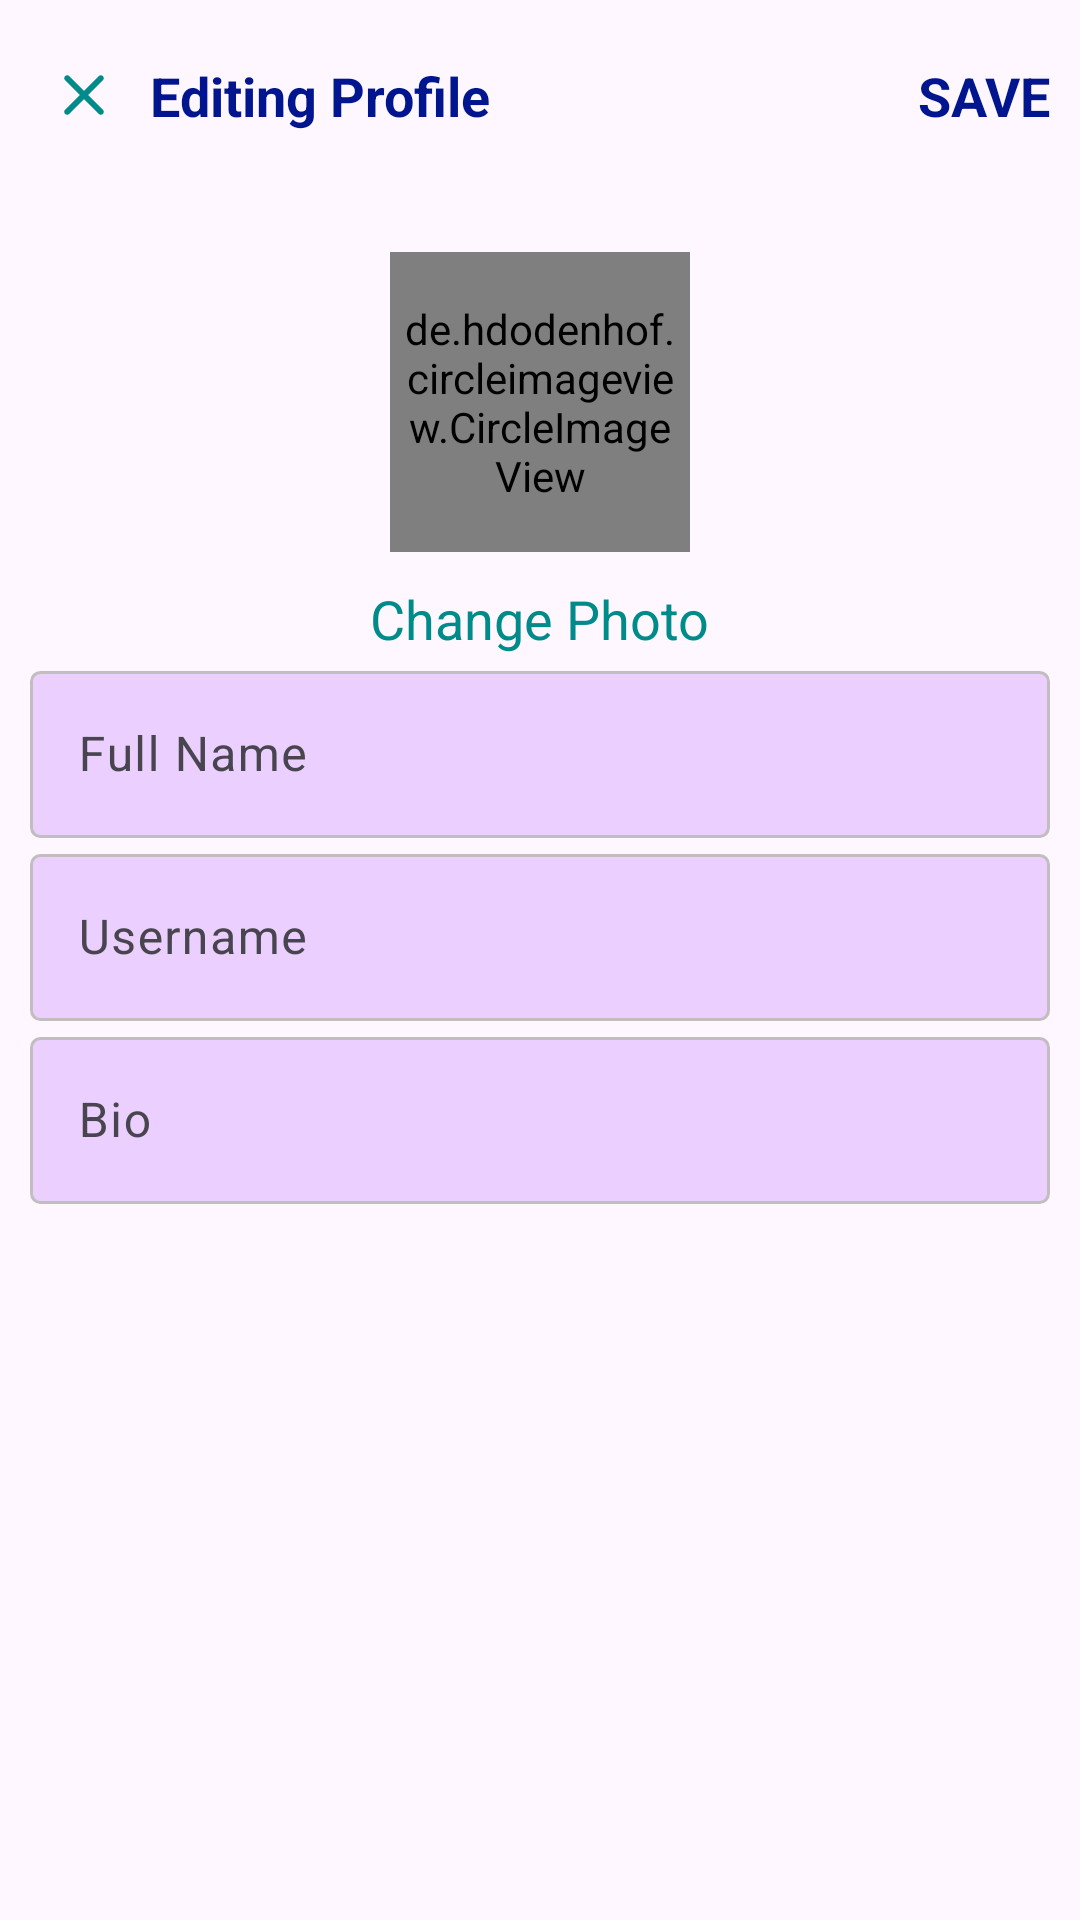

Point at icon controls on the screen. Image size 1080 x 1920, points as [x,y].
Close Icon: [84,95]
